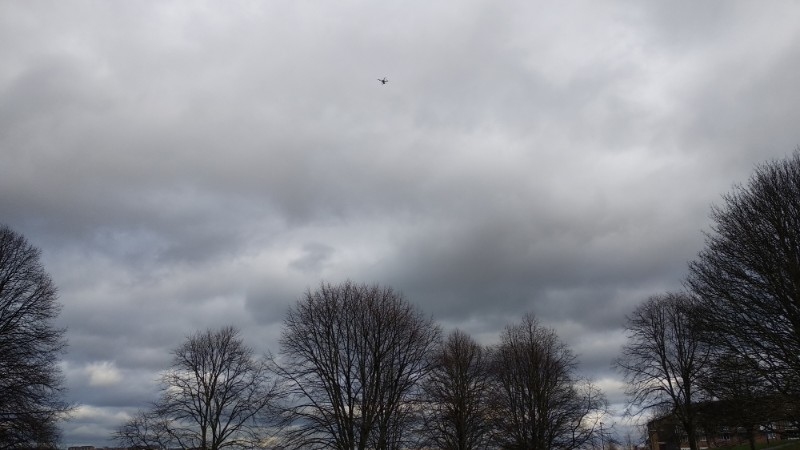drone: (377, 77, 389, 85)
